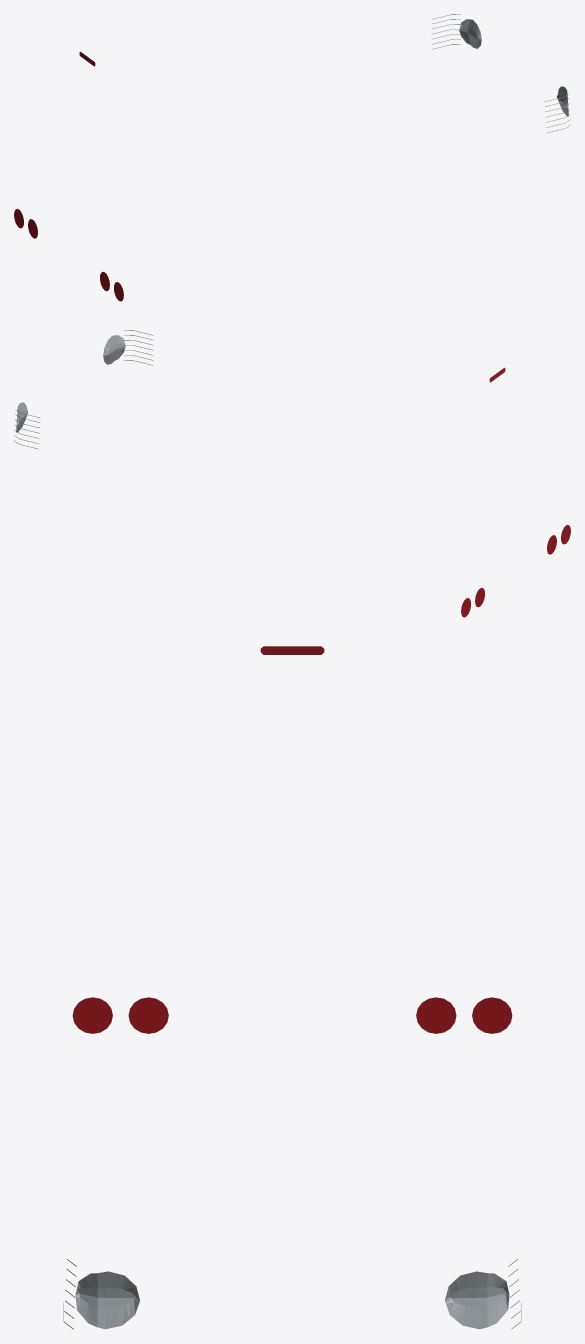
The model's file is kei-clipper-u7-6a061c3a-lamps.glb.
3 renders of one model, top to bottom at view 1: azimuth 30°, elevation 25°; view 2: azimuth 150°, elevation 25°; view 3: azimuth 270°, elevation 25°, orthographic. The views are drawn at different scales.
Visible parts, largest first — view 1: Left_Headlight_Reflector; view 2: Right_Headlight_Reflector; view 3: Left_Headlight_Reflector, Right_Headlight_Reflector, Left_Round_Tail_0, Right_Round_Tail_0, Left_Round_Tail_1, Right_Round_Tail_1.
Part boxes in pixels (x1=…): Left_Headlight_Reflector: x1=459, y1=19, x2=481, y2=48; Right_Headlight_Reflector: x1=103, y1=335, x2=125, y2=364; Left_Headlight_Reflector: x1=445, y1=1271, x2=509, y2=1329; Right_Headlight_Reflector: x1=75, y1=1271, x2=139, y2=1329; Left_Round_Tail_0: x1=416, y1=997, x2=456, y2=1033; Right_Round_Tail_0: x1=128, y1=997, x2=168, y2=1033; Left_Round_Tail_1: x1=472, y1=997, x2=512, y2=1033; Right_Round_Tail_1: x1=72, y1=997, x2=112, y2=1033.
Size of the model in its own units: 3.35 by 1.44 by 1.47.
